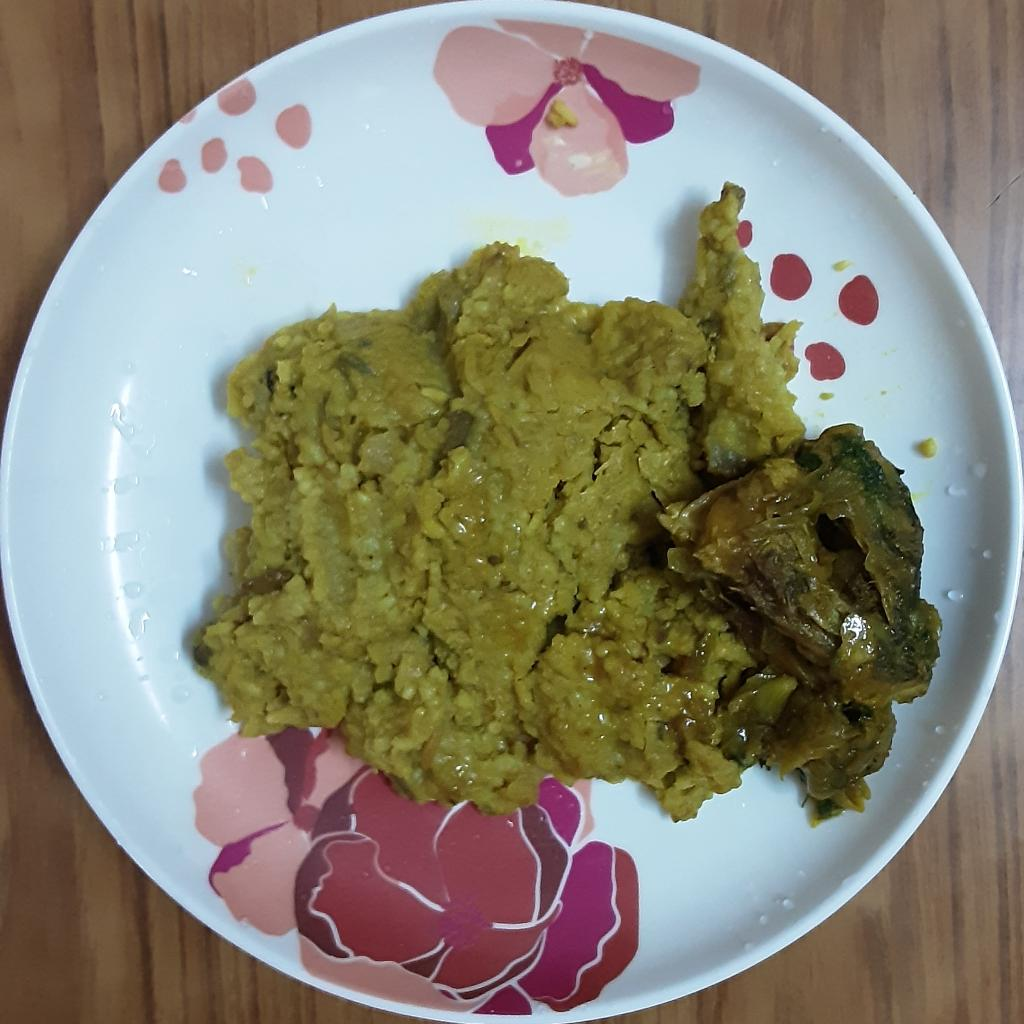fish: (661, 422, 942, 831)
khichuri: (198, 179, 798, 828)
